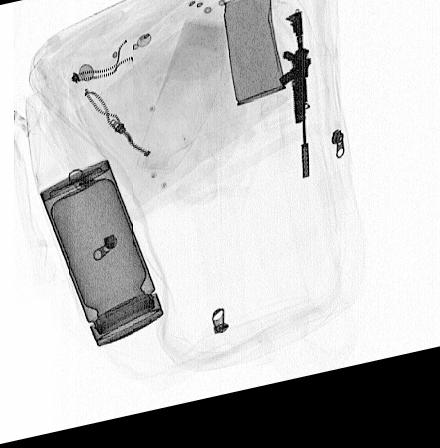Gun: (278, 22, 312, 192)
